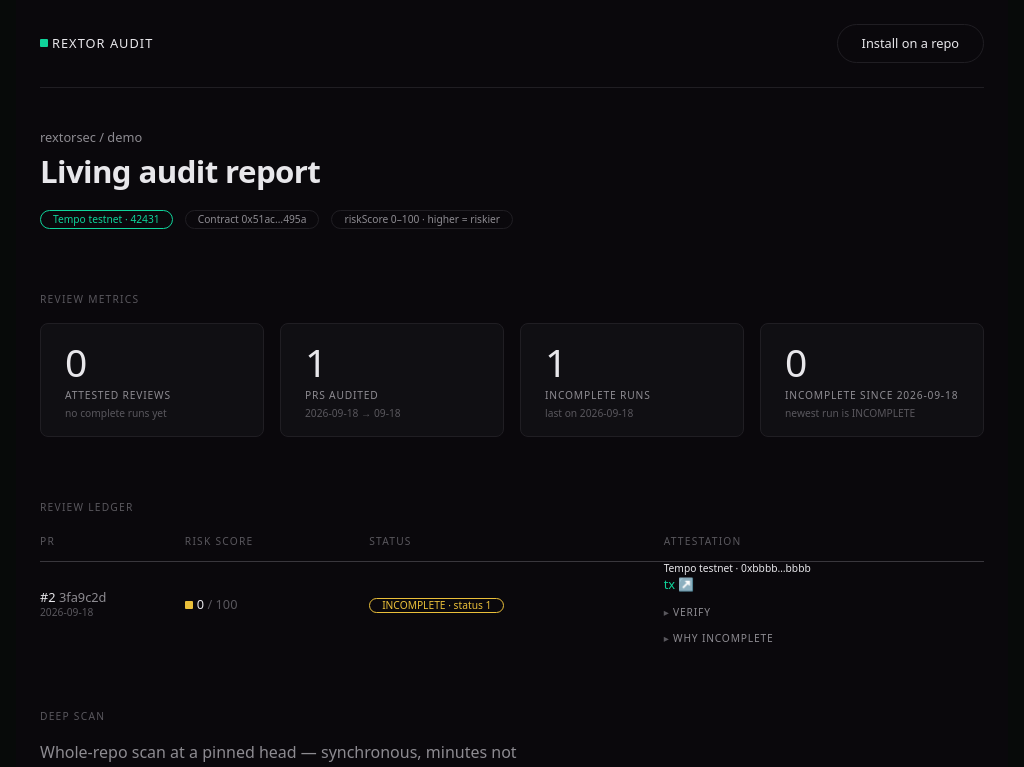
Test: dashboard page — INCOMPLETE row anatomy (dashboard v2) › renders the status chip and the why-incomplete expander; never a score of fake origin
Expected: the text "INCOMPLETE · status 1" is shown, [369, 598, 504, 613]
Click the button "Why incomplete" at {"x": 719, "y": 639}, box [664, 632, 774, 645]
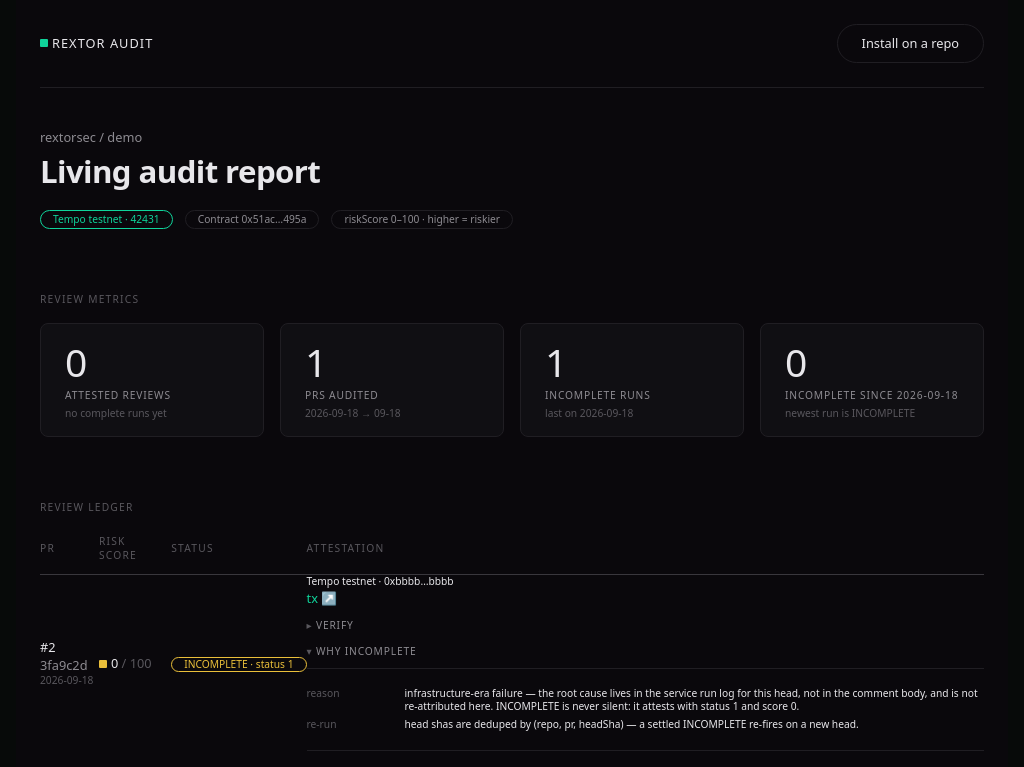
Expected: the text "never silent" is shown, [404, 686, 978, 713]
Expected: the text "deduped by (repo, pr, headSha)" is shown, [404, 717, 859, 731]
